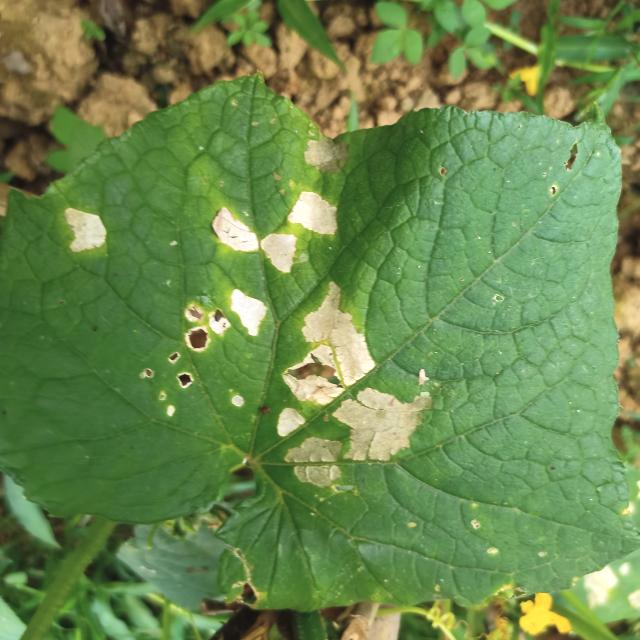disease_cucumber: (277, 276, 434, 498), (141, 282, 271, 423), (204, 187, 351, 278), (55, 199, 114, 258)
